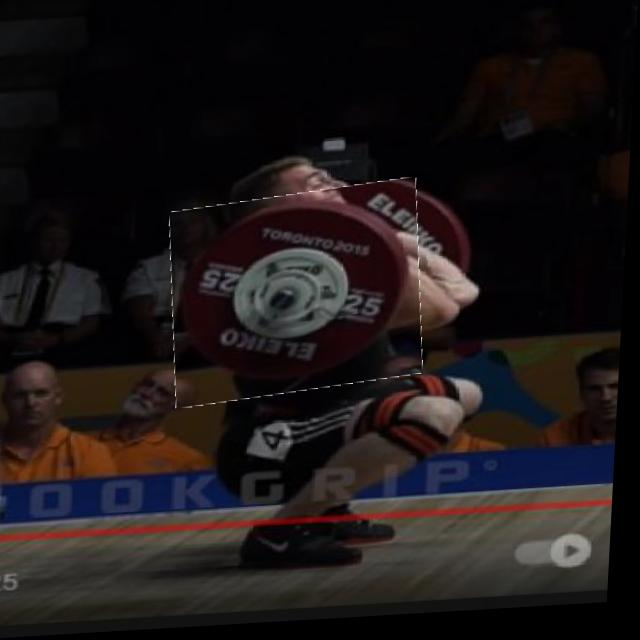barbell: (170, 187, 432, 407)
